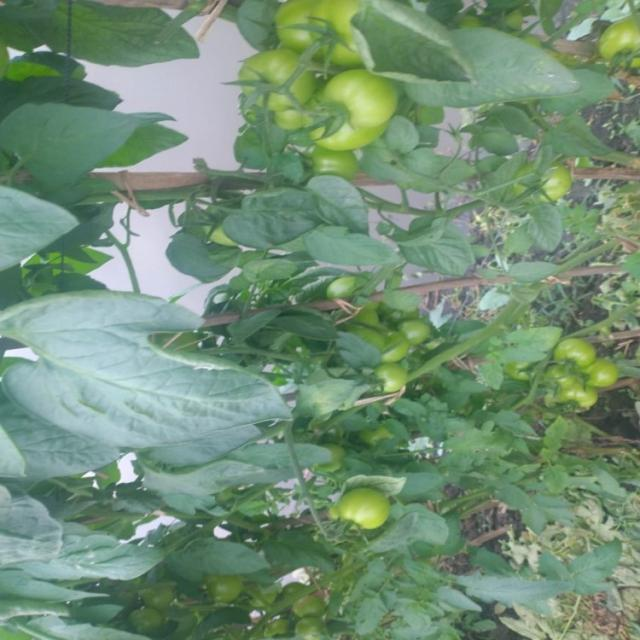tomato: (307, 70, 391, 161), (274, 1, 374, 67), (238, 49, 318, 125), (344, 295, 429, 358), (342, 471, 398, 533), (373, 346, 420, 411), (590, 11, 640, 72), (298, 133, 346, 187), (517, 162, 568, 210), (576, 350, 631, 394), (283, 577, 325, 629), (551, 333, 595, 379), (254, 611, 313, 640), (554, 384, 598, 418), (126, 604, 165, 640), (540, 364, 573, 394), (204, 573, 230, 609), (145, 581, 169, 617)
